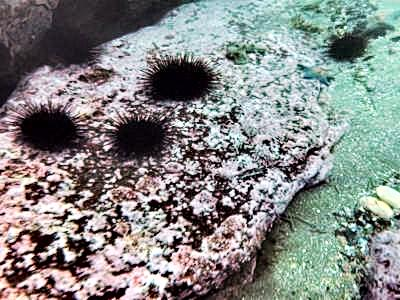urchin: (7, 96, 85, 153), (136, 51, 220, 101), (101, 110, 175, 158), (40, 27, 100, 69), (319, 32, 364, 60)
